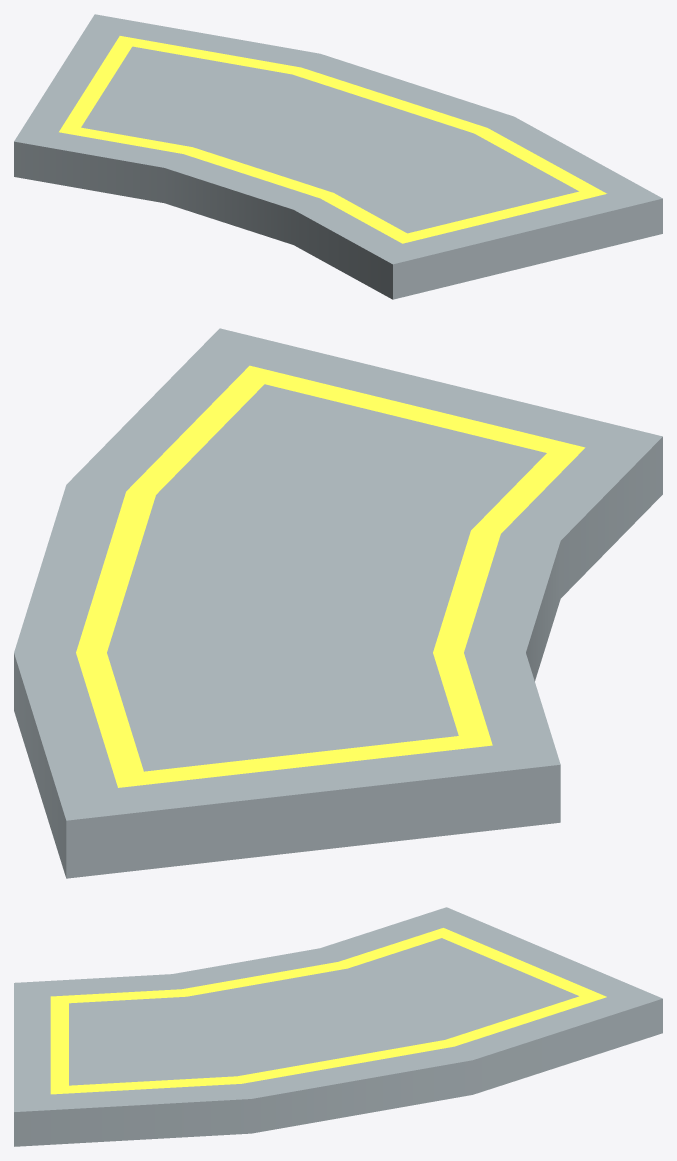
Rendered from SM_Platform45DegreeBend_v0.fbx.
3 renders of one model, top to bottom at view 1: azimuth 30°, elevation 25°; view 2: azimuth 150°, elevation 25°; view 3: azimuth 270°, elevation 25°, orthographic. The views are drawn at different scales.
Parts seen in each view (by area): view 1: SM_Platform45DegreeBend_v0; view 2: SM_Platform45DegreeBend_v0; view 3: SM_Platform45DegreeBend_v0.
Boxes of the visible parts, left/top/right/bottom form: SM_Platform45DegreeBend_v0: left=14, top=14, right=662, bottom=299; SM_Platform45DegreeBend_v0: left=14, top=328, right=662, bottom=878; SM_Platform45DegreeBend_v0: left=14, top=907, right=662, bottom=1146.
Size of the model in its own units: 1.59 by 0.125 by 2.12.
